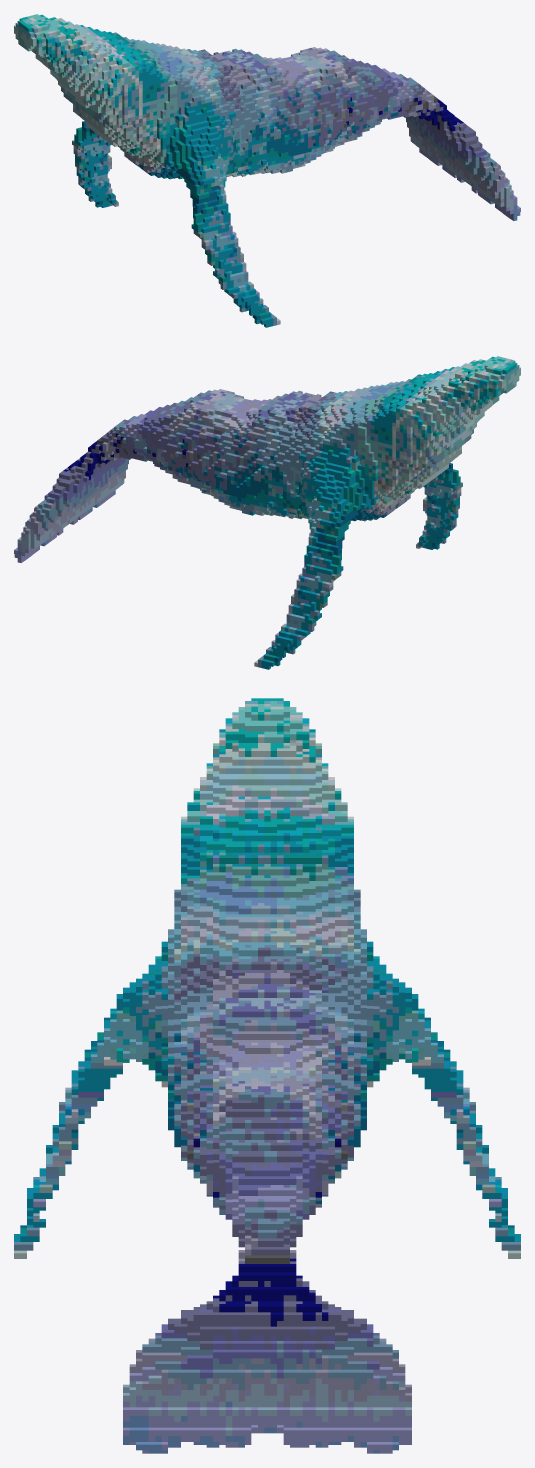
Rendered from humpback_whale.gltf.
3 views of the same model, one above another, from view 1: azimuth 30°, elevation 25°; view 2: azimuth 150°, elevation 25°; view 3: azimuth 270°, elevation 25° (orthographic). The views are drawn at different scales.
Parts seen in each view (by area): view 1: Geode; view 2: Geode; view 3: Geode.
Part boxes in pixels (<box>): Geode: <box>14,14,520,327</box>; Geode: <box>14,356,520,669</box>; Geode: <box>14,698,520,1453</box>.
Size of the model in its own units: 125 by 74 by 79.
